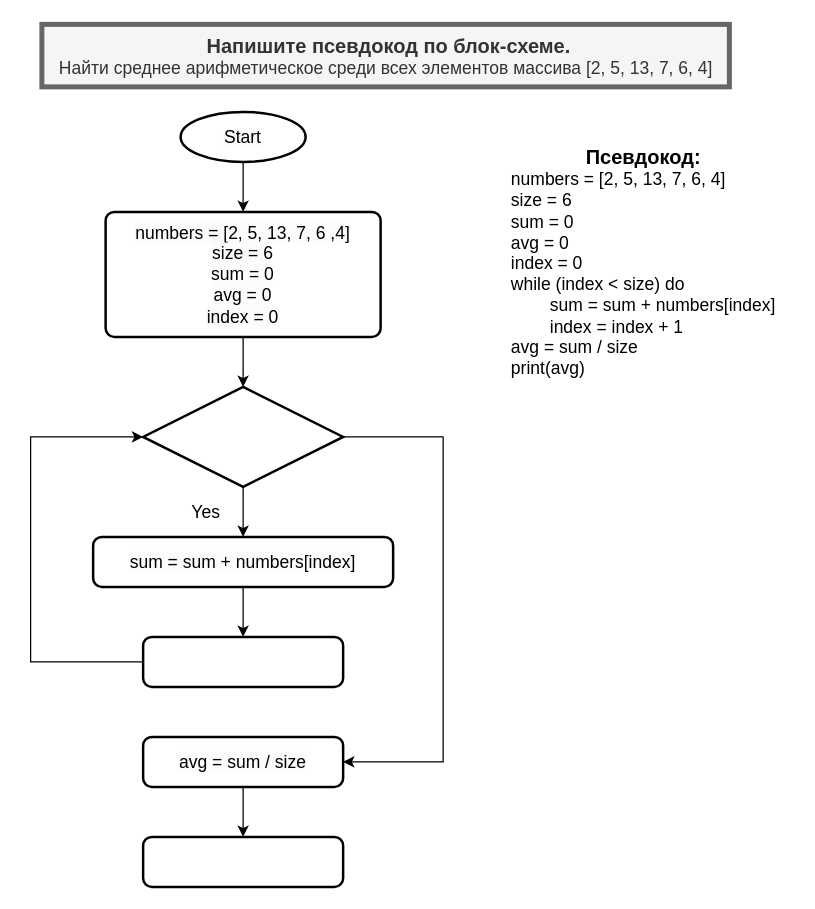
The diagram is 815 pixels wide and 909 high, and some of its shapes have lost their labels. The shapes that lost their labels are listed below. From the top down, each one's box as (x1, y1, x2, y2) in pixels, then its label:
(141, 385, 344, 488): index < size
(141, 635, 344, 688): index = index + 1
(141, 835, 344, 888): print(avg)
